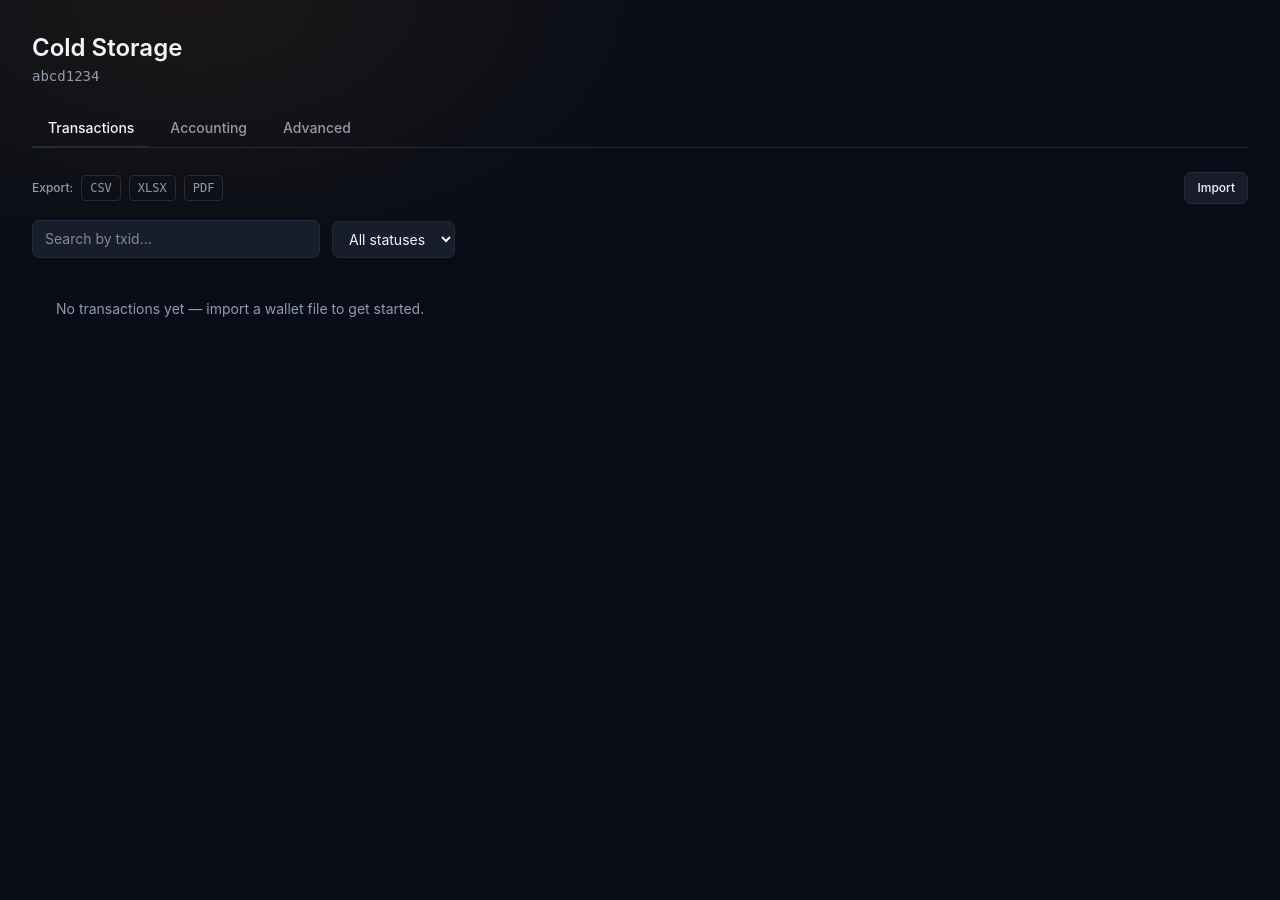
Test: WalletPage › surfaces an import-history load failure on the Import tab
The width and height of the screenshot is (1280, 900).
What coordinates should you click on to do the following:
click the button "Import"
I would click on:
 (1216, 188)
Its box is top-left (1184, 172), bottom-right (1248, 204).
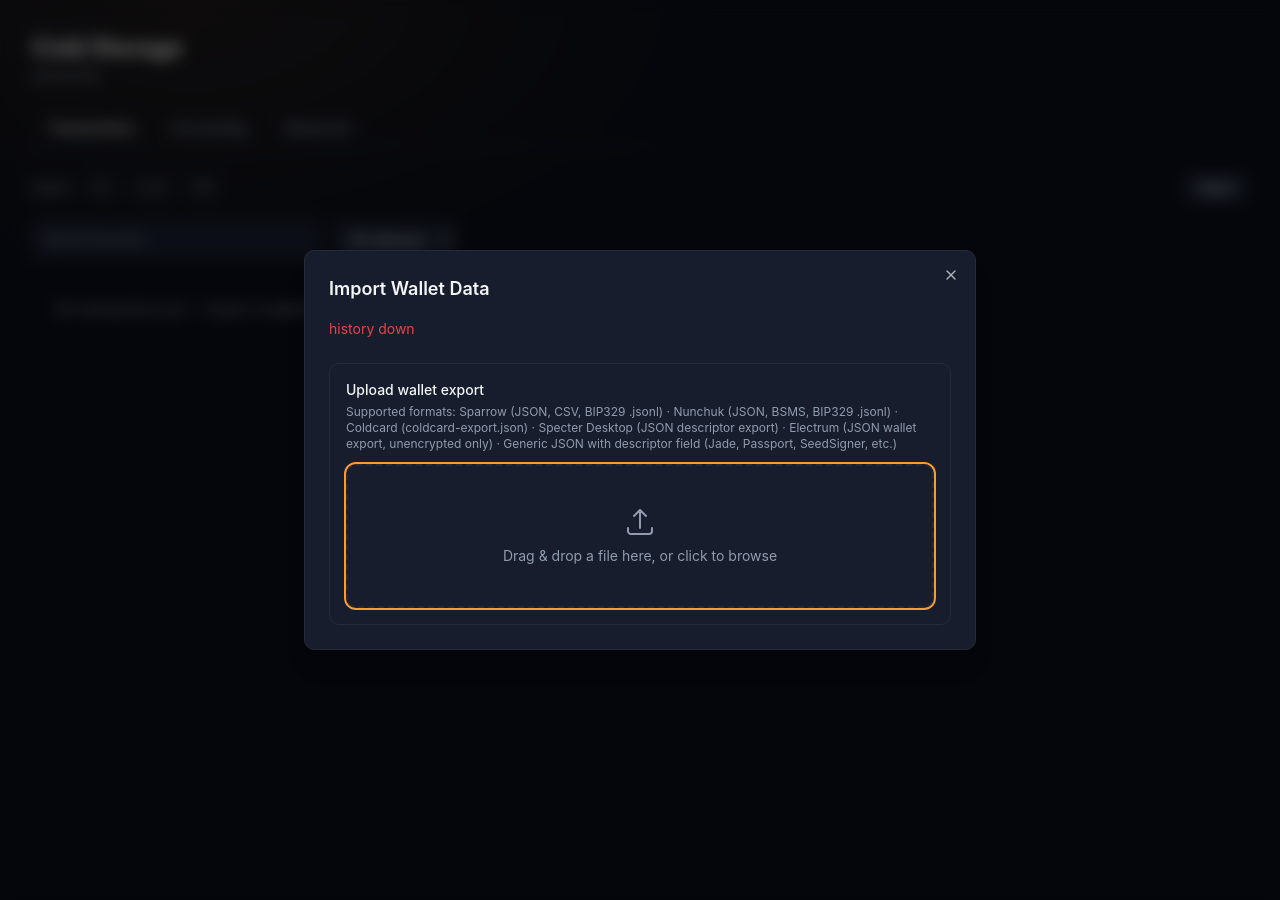
Check: the message reads "history down", box top-left (329, 320), bottom-right (415, 337)
